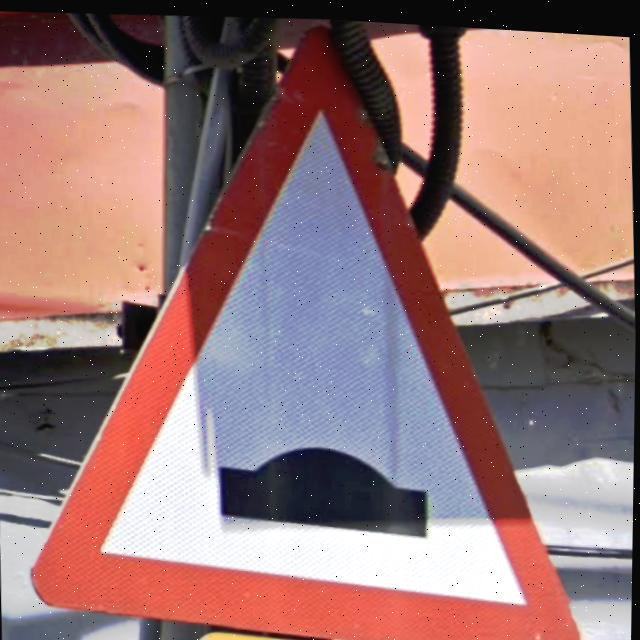hump: (31, 24, 584, 640)
